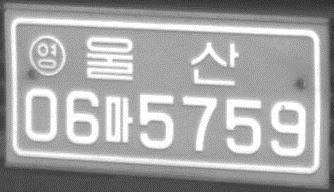0: (23, 87, 59, 143)
5: (225, 96, 263, 155), (137, 92, 175, 150)
6: (64, 87, 99, 146)
7: (181, 94, 218, 154)
9: (269, 100, 308, 157)
마: (103, 94, 134, 145)
영: (28, 34, 67, 76)
울산_D: (84, 33, 241, 88)
